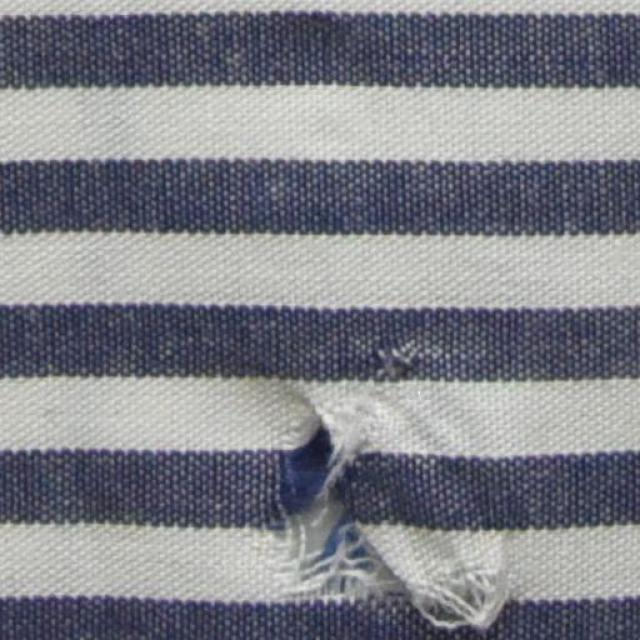cut: (263, 373, 502, 632)
